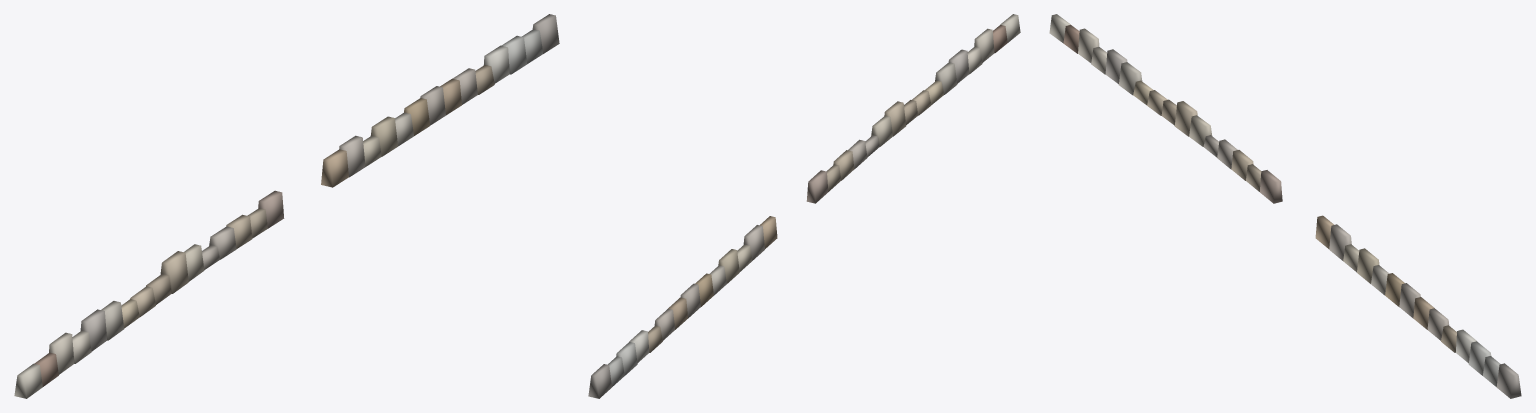
The model's file is farm_-10_-7_collision.glb.
3 views of the same model, side by side, from view 1: azimuth 30°, elevation 25°; view 2: azimuth 210°, elevation 25°; view 3: azimuth 270°, elevation 25° (orthographic). The views are drawn at different scales.
Visible parts, largest first — view 1: geometry_0; view 2: geometry_0; view 3: geometry_0.
Boxes of the visible parts, x1=… form: geometry_0: x1=14, y1=14, x2=559, y2=398; geometry_0: x1=588, y1=14, x2=1020, y2=398; geometry_0: x1=1049, y1=14, x2=1521, y2=398.
Bounding box in the file's own units: 44.47 × 4.17 × 27.28.
